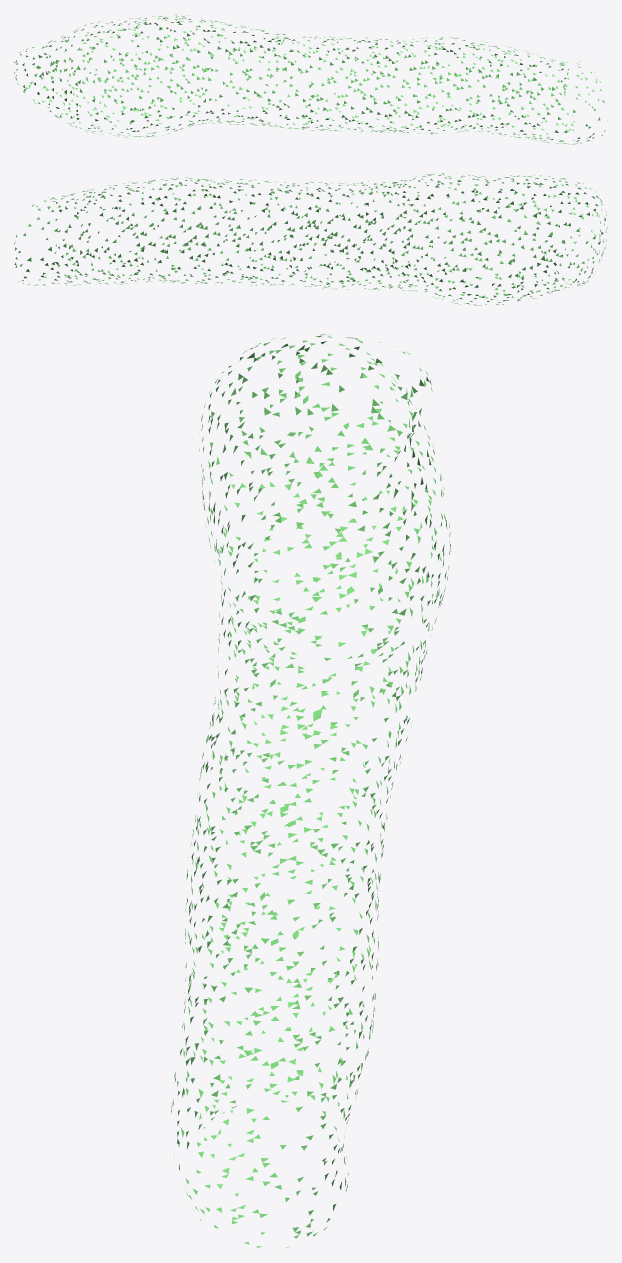
The model's file is morph_017.glb.
3 views of the same model, one above another, from view 1: azimuth 30°, elevation 25°; view 2: azimuth 150°, elevation 25°; view 3: azimuth 270°, elevation 25° (orthographic). The views are drawn at different scales.
Bounding box in the file's own units: 109 × 41.57 × 24.52.
